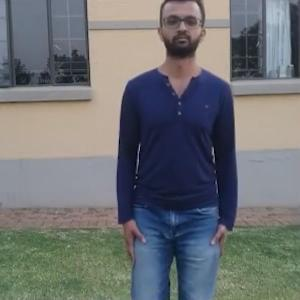follow: (116, 1, 239, 297)
